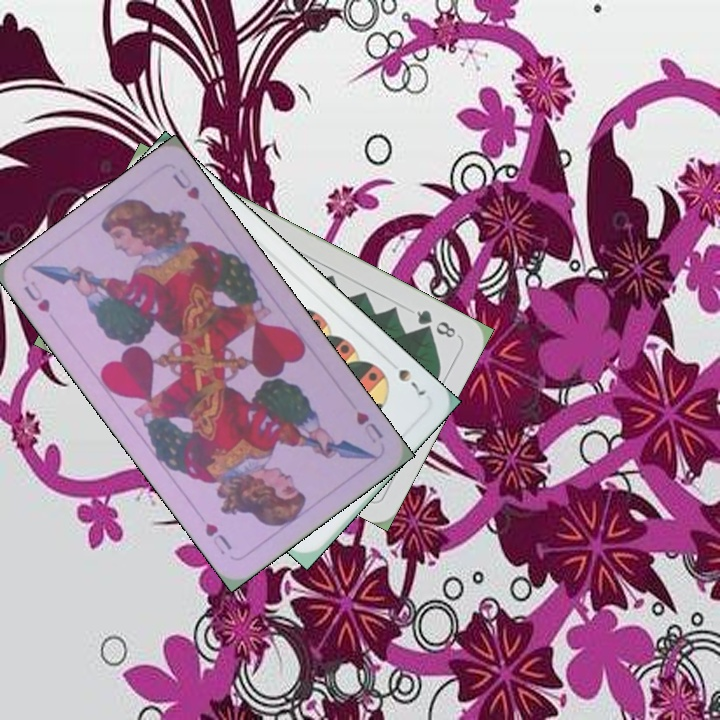G8: (412, 306, 459, 341)
HU: (19, 276, 53, 316), (352, 407, 386, 446)
S7: (394, 365, 429, 398)
